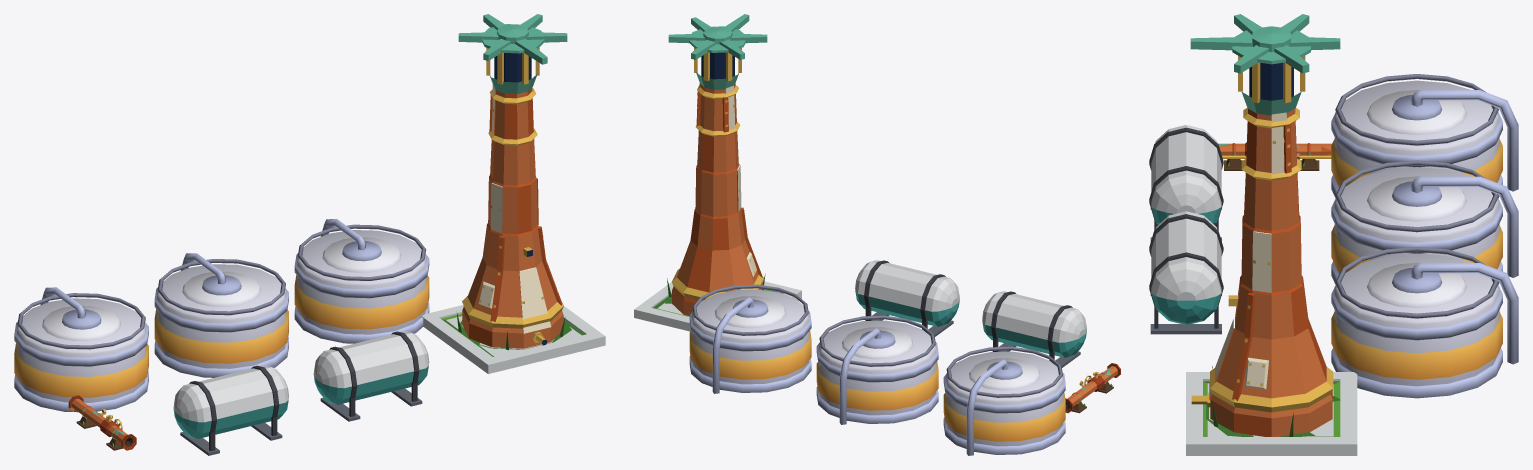
Rendered from refinery.glb.
3 views of the same model, side by side, from view 1: azimuth 30°, elevation 25°; view 2: azimuth 150°, elevation 25°; view 3: azimuth 270°, elevation 25° (orthographic). The views are drawn at different scales.
Visible parts, largest first — view 1: detail-tank-large (×3), stack, tank-shell (×2), cowl-mesh, pipe-run; view 2: detail-tank-large (×3), stack, tank-shell (×2), cowl-mesh, pipe-run; view 3: detail-tank-large (×3), stack, tank-shell (×2), cowl-mesh, pipe-run.
Boxes of the visible parts, <box> form: detail-tank-large (×3): <box>14,219,429,412</box>; stack: <box>421,53,605,373</box>; tank-shell (×2): <box>173,331,429,455</box>; cowl-mesh: <box>458,14,567,94</box>; pipe-run: <box>68,395,136,450</box>; detail-tank-large (×3): <box>689,284,1065,455</box>; stack: <box>634,52,801,331</box>; tank-shell (×2): <box>855,260,1086,367</box>; cowl-mesh: <box>668,14,767,89</box>; pipe-run: <box>1065,363,1120,413</box>; detail-tank-large (×3): <box>1331,74,1518,398</box>; stack: <box>1186,63,1357,455</box>; tank-shell (×2): <box>1149,125,1223,334</box>; cowl-mesh: <box>1190,14,1340,115</box>; pipe-run: <box>1218,142,1331,170</box>.
Size of the model in its own units: 84.12 by 50 by 43.36.
Materials: 2 (1 with a texture image).
